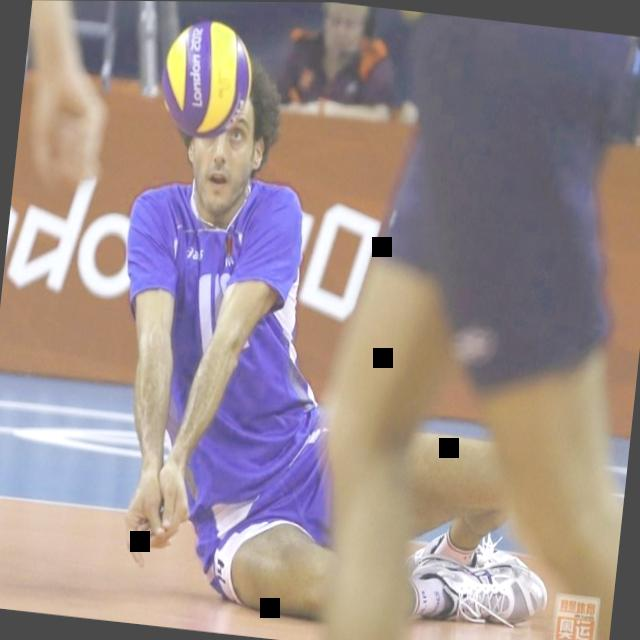Fall-Detected: (80, 29, 605, 640)
